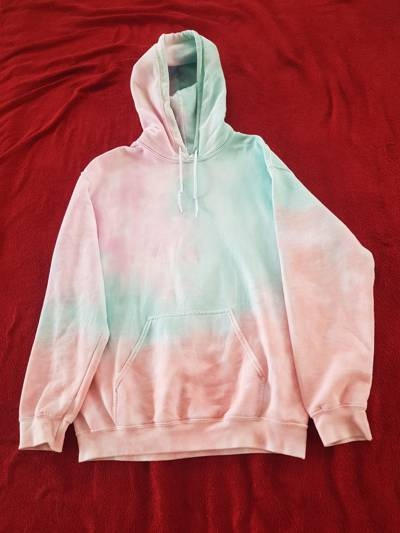Hoodie: (31, 34, 373, 472)
